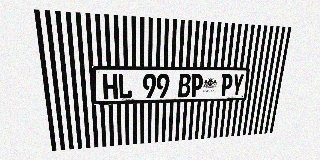9: (156, 74, 170, 98), (143, 74, 156, 98)
B: (178, 74, 191, 97)
H: (102, 74, 118, 99)
L: (118, 74, 132, 99)
P: (190, 74, 203, 97), (220, 74, 233, 96)
Y: (231, 74, 244, 96)
